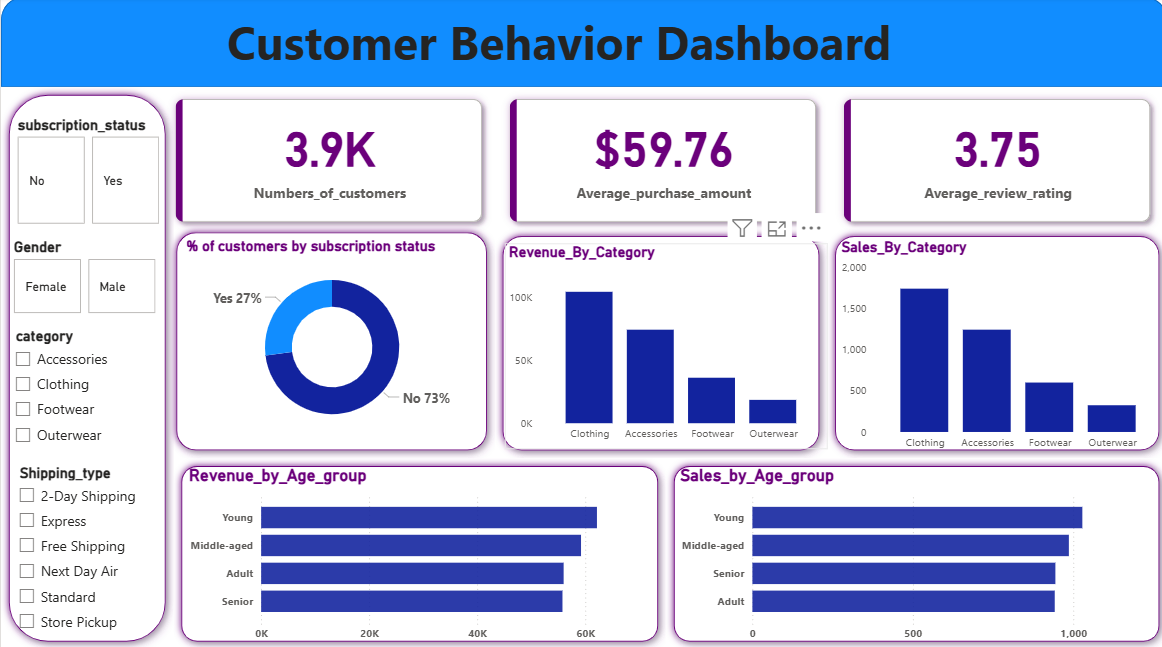

What the dashboard file says about the page in this screenshot:
{"tool":"powerbi","page":{"name":"Page 1","canvas":[1340,750],"ordinal":0},"visuals":[{"type":"cardVisual","fields":{"Data":["public customer.Numbers_of_customers","public customer.Average_purchase_amount","public customer.Average_review_rating"]},"box":[183.9,100.6,1156.4,175.3],"z":0},{"type":"shape","box":[0,0,1340.3,103.4],"z":1000},{"type":"textbox","box":[197.6,9.6,886.5,93.3],"z":2000},{"type":"shape","box":[192.5,261.5,374.9,268.6],"z":3000},{"type":"donutChart","title":"% of customers by subscription status","fields":{"Category":["public customer.subscription_status"],"Y":["CountNonNull(public customer.customer_id)"]},"box":[208.3,275.8,344.8,234.2],"z":4000},{"type":"shape","box":[0,103.4,198.2,646.4],"z":5000},{"type":"shape","box":[198.2,530.1,566,219.8],"z":6000},{"type":"shape","box":[949.6,265.8,390.7,264.3],"z":7000},{"type":"shape","box":[567.4,265.8,382.1,264.3],"z":8000},{"type":"columnChart","title":"Revenue_By_Category","fields":{"Y":["Sum(public customer.purchase_amount)"],"Category":["public customer.category"]},"box":[578.9,283,370.6,237],"z":9000},{"type":"columnChart","title":"Sales_By_Category","fields":{"Category":["public customer.category"],"Y":["CountNonNull(public customer.customer_id)"]},"box":[961,277.3,379.2,252.8],"z":10000},{"type":"clusteredBarChart","title":"Revenue_by_Age_group","fields":{"Category":["public customer.age_grouped"],"Y":["Sum(public customer.purchase_amount)"]},"box":[211.2,538.8,538.7,211.2],"z":11000},{"type":"shape","box":[764.2,530.1,576.1,219.8],"z":12000},{"type":"clusteredBarChart","title":"Sales_by_Age_group","fields":{"Category":["public customer.age_grouped"],"Y":["CountNonNull(public customer.customer_id)"]},"box":[775.7,538.7,551.6,211.2],"z":13000},{"type":"advancedSlicerVisual","fields":{"Values":["public customer.subscription_status"]},"box":[14.4,136.5,173.8,129.3],"z":13001},{"type":"advancedSlicerVisual","title":"Gender","fields":{"Values":["public customer.gender"]},"box":[10.1,277.3,173.8,91.9],"z":13002},{"type":"slicer","fields":{"Values":["public customer.shipping_type"]},"box":[8.6,531.5,173.8,218.4],"z":13004},{"type":"slicer","fields":{"Values":["public customer.category"]},"box":[4.3,374.9,192.5,193.9],"z":13005}]}

Visuals, with their boxes in screenshot pixels (x1, y1, x2, y2), scaled from the page's 1340x750 canvas onto the 1162x647 screenshot:
cardVisual - public customer.Numbers_of_customers x public customer.Average_purchase_amount: 159:87:1161:238
shape: 0:0:1161:89
textbox: 171:8:940:89
shape: 167:226:492:457
"% of customers by subscription status" donutChart: 181:238:480:440
shape: 0:89:172:646
shape: 172:457:663:646
shape: 823:229:1161:457
shape: 492:229:823:457
"Revenue_By_Category" columnChart: 502:244:823:449
"Sales_By_Category" columnChart: 833:239:1161:457
"Revenue_by_Age_group" clusteredBarChart: 183:465:650:646
shape: 663:457:1161:646
"Sales_by_Age_group" clusteredBarChart: 673:465:1151:646
advancedSlicerVisual - public customer.subscription_status: 12:118:163:229
"Gender" advancedSlicerVisual: 9:239:159:318
slicer - public customer.shipping_type: 7:459:158:646
slicer - public customer.category: 4:323:171:491
